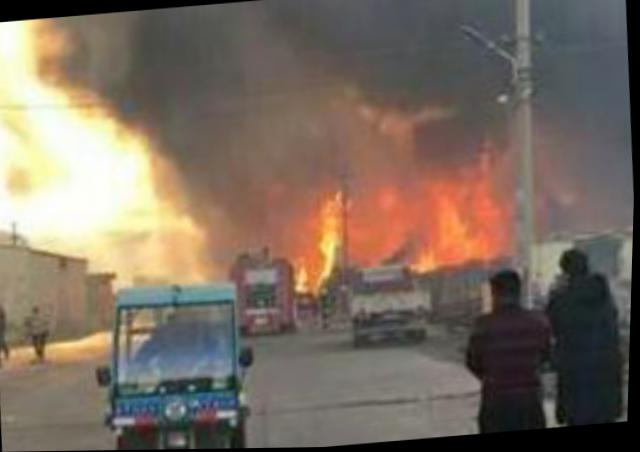fire: (422, 174, 517, 261), (312, 188, 347, 274), (292, 263, 312, 288)
